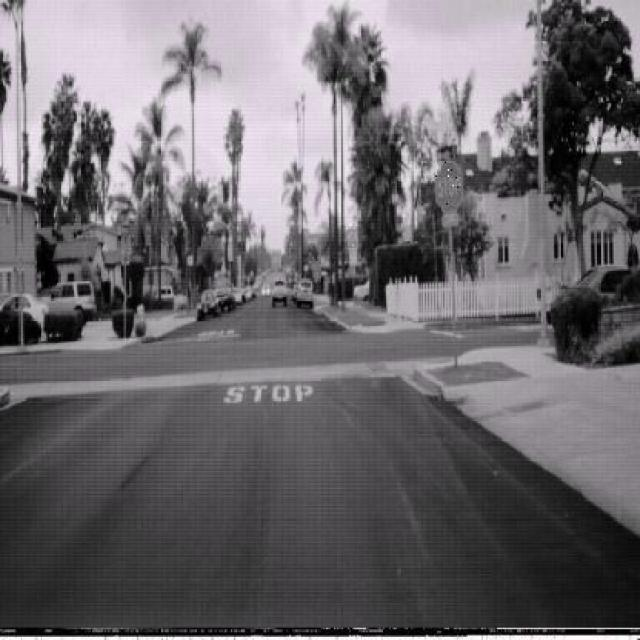speedLimit25: (346, 225, 358, 252)
stop: (436, 160, 464, 215)
